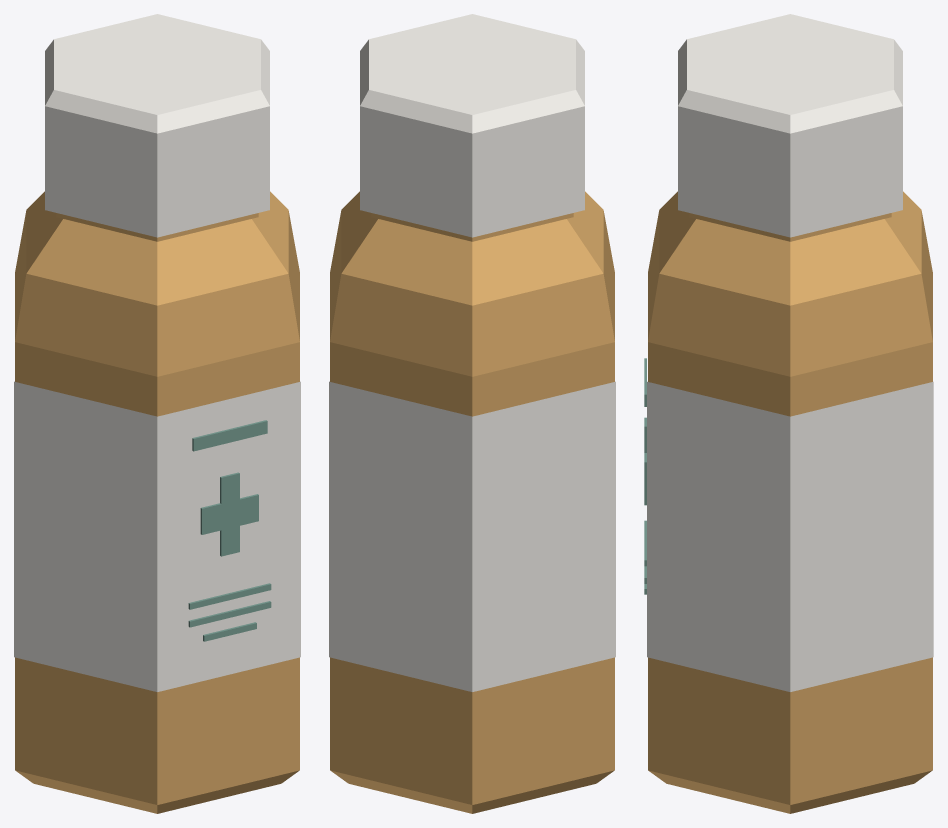
The model's file is low-poly-pill-bottle.glb.
3 renders of one model, left to right at view 1: azimuth 30°, elevation 25°; view 2: azimuth 150°, elevation 25°; view 3: azimuth 270°, elevation 25°, orthographic.
Visible parts, largest first — view 1: Low_Poly_Pill_Bottle_Hollow_bottle, Low_Poly_Pill_Bottle_Wraparound_label, Removable_cap_Cap_shell, Low_Poly_Pill_Bottle_Medical_cross_vertical, Low_Poly_Pill_Bottle_Medical_cross_horizontal, Low_Poly_Pill_Bottle_Label_header, Low_Poly_Pill_Bottle_Neck_collar, Low_Poly_Pill_Bottle_Label_print_line_0, Low_Poly_Pill_Bottle_Label_print_line_1; view 2: Low_Poly_Pill_Bottle_Hollow_bottle, Low_Poly_Pill_Bottle_Wraparound_label, Removable_cap_Cap_shell, Low_Poly_Pill_Bottle_Neck_collar; view 3: Low_Poly_Pill_Bottle_Hollow_bottle, Low_Poly_Pill_Bottle_Wraparound_label, Removable_cap_Cap_shell, Low_Poly_Pill_Bottle_Neck_collar.
Boxes of the visible parts, bbox=[...] form: Low_Poly_Pill_Bottle_Hollow_bottle: bbox=[15, 191, 299, 813]; Low_Poly_Pill_Bottle_Wraparound_label: bbox=[14, 381, 300, 691]; Removable_cap_Cap_shell: bbox=[45, 14, 269, 237]; Low_Poly_Pill_Bottle_Medical_cross_vertical: bbox=[220, 472, 239, 556]; Low_Poly_Pill_Bottle_Medical_cross_horizontal: bbox=[200, 494, 258, 534]; Low_Poly_Pill_Bottle_Label_header: bbox=[192, 420, 267, 451]; Low_Poly_Pill_Bottle_Neck_collar: bbox=[56, 213, 258, 241]; Low_Poly_Pill_Bottle_Label_print_line_0: bbox=[188, 583, 271, 609]; Low_Poly_Pill_Bottle_Label_print_line_1: bbox=[188, 601, 271, 627]; Low_Poly_Pill_Bottle_Hollow_bottle: bbox=[330, 191, 614, 813]; Low_Poly_Pill_Bottle_Wraparound_label: bbox=[329, 381, 615, 691]; Removable_cap_Cap_shell: bbox=[360, 14, 584, 237]; Low_Poly_Pill_Bottle_Neck_collar: bbox=[371, 213, 573, 241]; Low_Poly_Pill_Bottle_Hollow_bottle: bbox=[648, 191, 932, 813]; Low_Poly_Pill_Bottle_Wraparound_label: bbox=[647, 381, 933, 691]; Removable_cap_Cap_shell: bbox=[678, 14, 902, 237]; Low_Poly_Pill_Bottle_Neck_collar: bbox=[689, 213, 891, 241].
Size of the model in its own units: 1.51 by 3.46 by 1.32.
